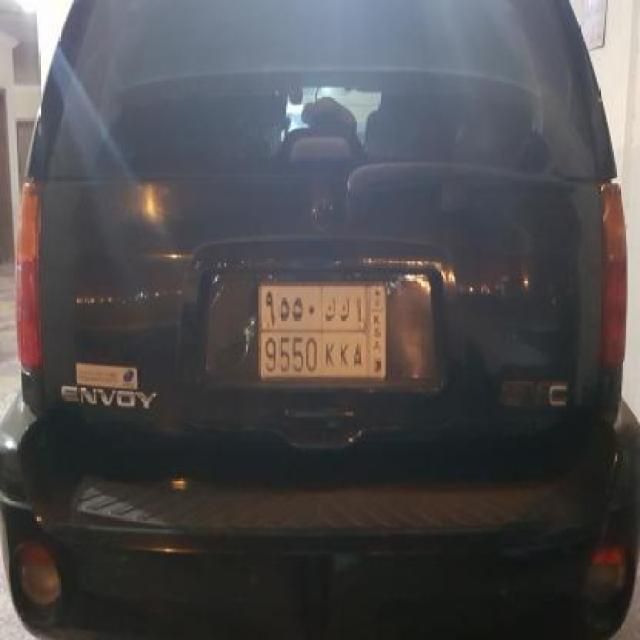license_plate: (257, 278, 388, 384)
